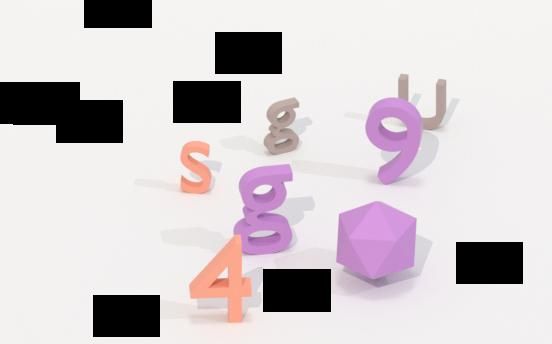4: (186, 235, 258, 326)
9: (362, 97, 426, 187)
dagiac: (328, 201, 426, 280)
g: (230, 167, 299, 256), (261, 96, 303, 157)
s: (176, 139, 217, 197)
u: (390, 71, 454, 130)
